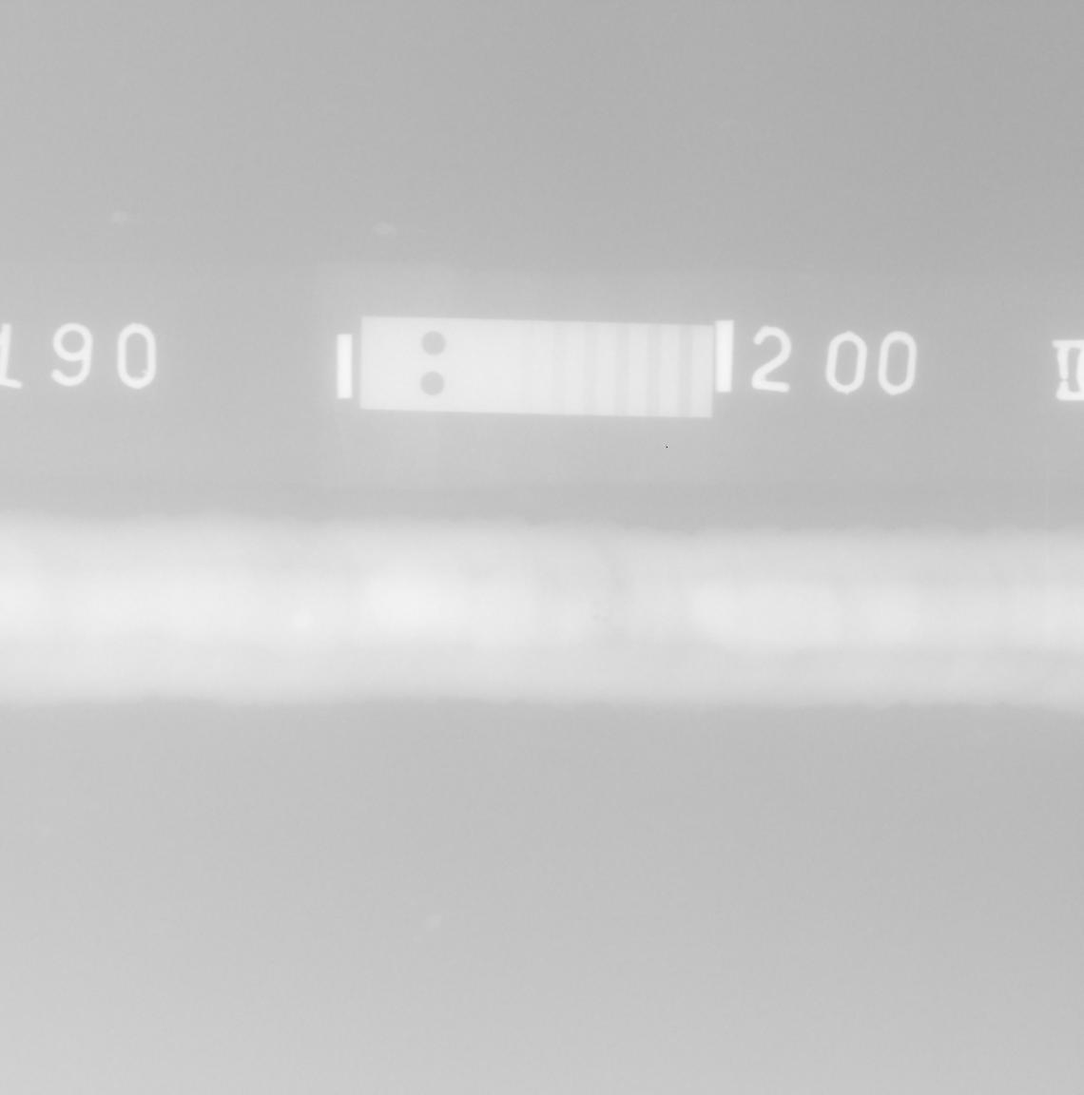Pore/Porosity: (592, 601, 598, 606), (593, 616, 598, 621), (605, 617, 608, 621)
Reference Standard 2: (359, 316, 712, 418)
